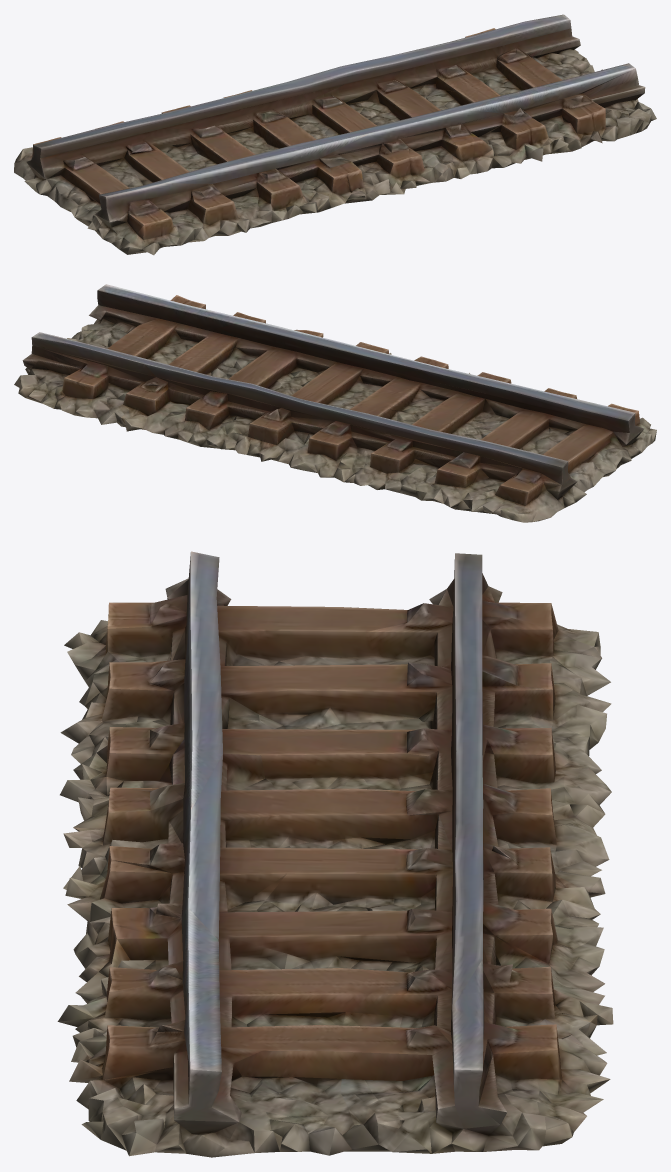
The model's file is mineRailI.glb.
3 renders of one model, top to bottom at view 1: azimuth 30°, elevation 25°; view 2: azimuth 150°, elevation 25°; view 3: azimuth 270°, elevation 25°, orthographic. The views are drawn at different scales.
Parts seen in each view (by area): view 1: model; view 2: model; view 3: model.
Part boxes in pixels (x1=…): model: x1=14, y1=14, x2=656, y2=255; model: x1=14, y1=284, x2=656, y2=522; model: x1=57, y1=551, x2=613, y2=1157.
Bounding box in the file's own units: 1.9 × 0.1507 × 0.8321.
Materials: 1 (1 with a texture image).
